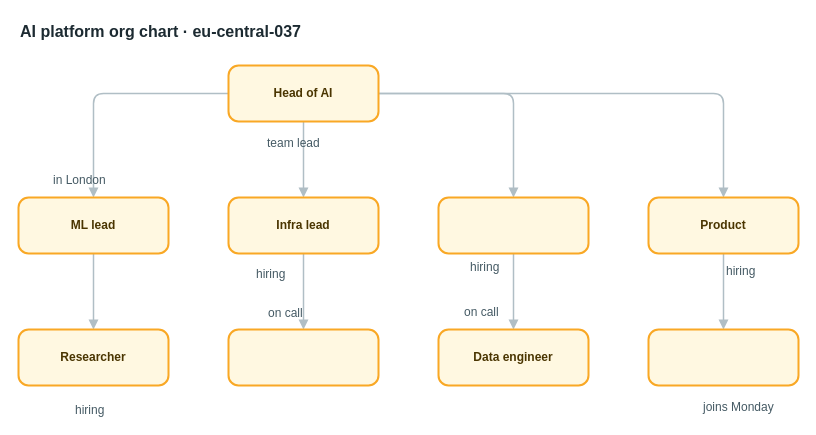
Some shapes in this 816 by 435 pixel diagram are drawn without their labels. The centre of each missing label's shape, as x and y in pixels:
Data lead: point 513,225
Designer: point 723,357
SRE: point 303,357
